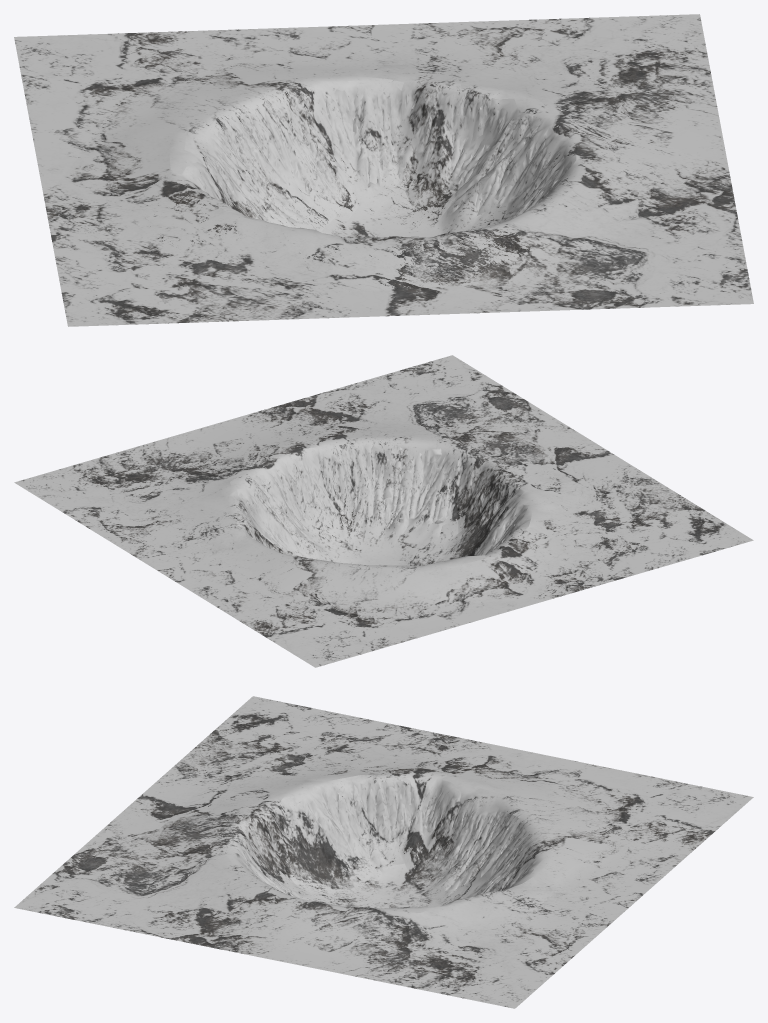
The model's file is landscape04.fbx.
3 renders of one model, top to bottom at view 1: azimuth 30°, elevation 25°; view 2: azimuth 150°, elevation 25°; view 3: azimuth 270°, elevation 25°, orthographic. The views are drawn at different scales.
Visible parts, largest first — view 1: Mesher; view 2: Mesher; view 3: Mesher.
Part boxes in pixels (x1,y1,x2,y2): Mesher: (14,14,753,326); Mesher: (14,355,753,667); Mesher: (14,696,753,1008).
Size of the model in its own units: 6711 by 777 by 6711.
